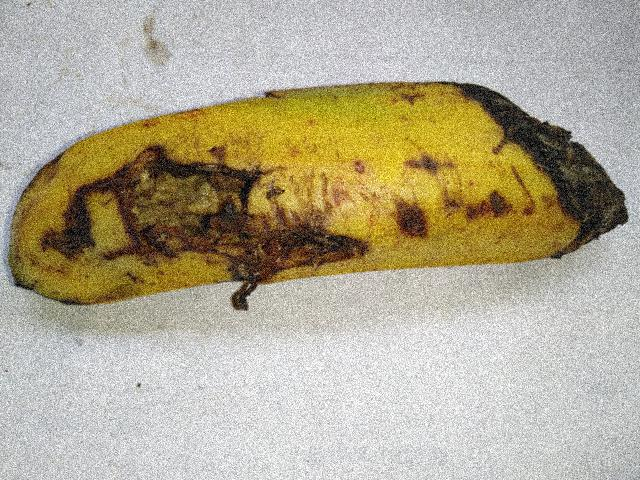rotten: (40, 144, 343, 314), (437, 58, 639, 287)
